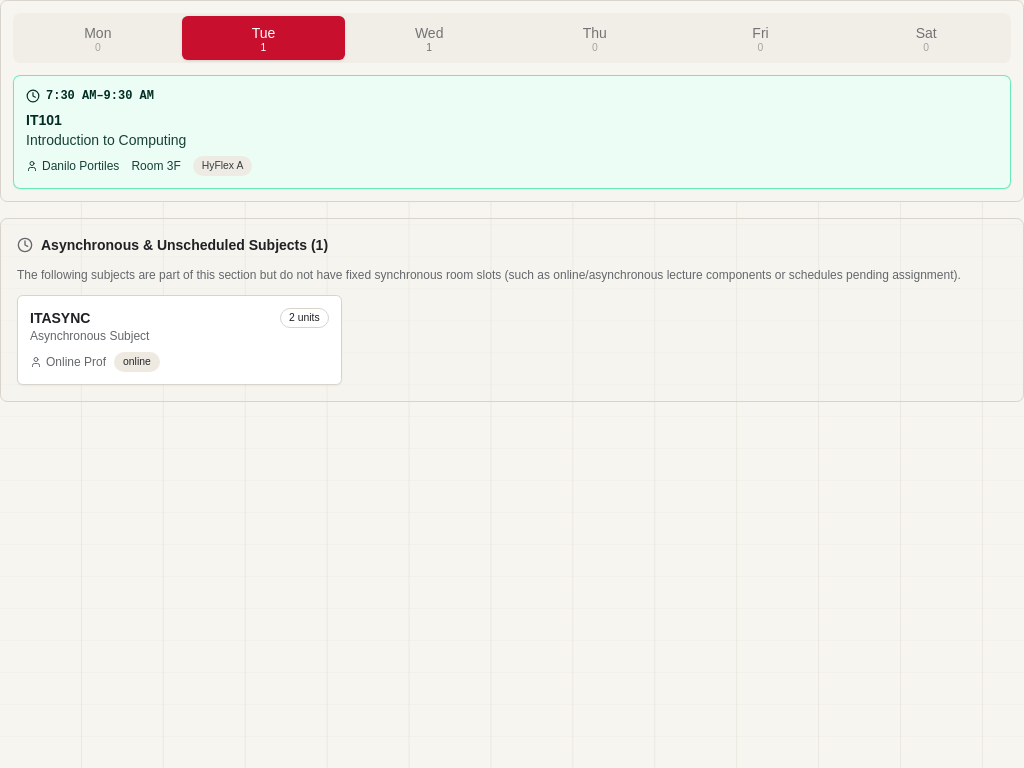
Test: SectionScheduleCalendar on a phone › switches day when a day tab is chosen
Click the tab "Wed 1" at x=429, y=38, box x1=347 y1=16 x2=511 y2=60
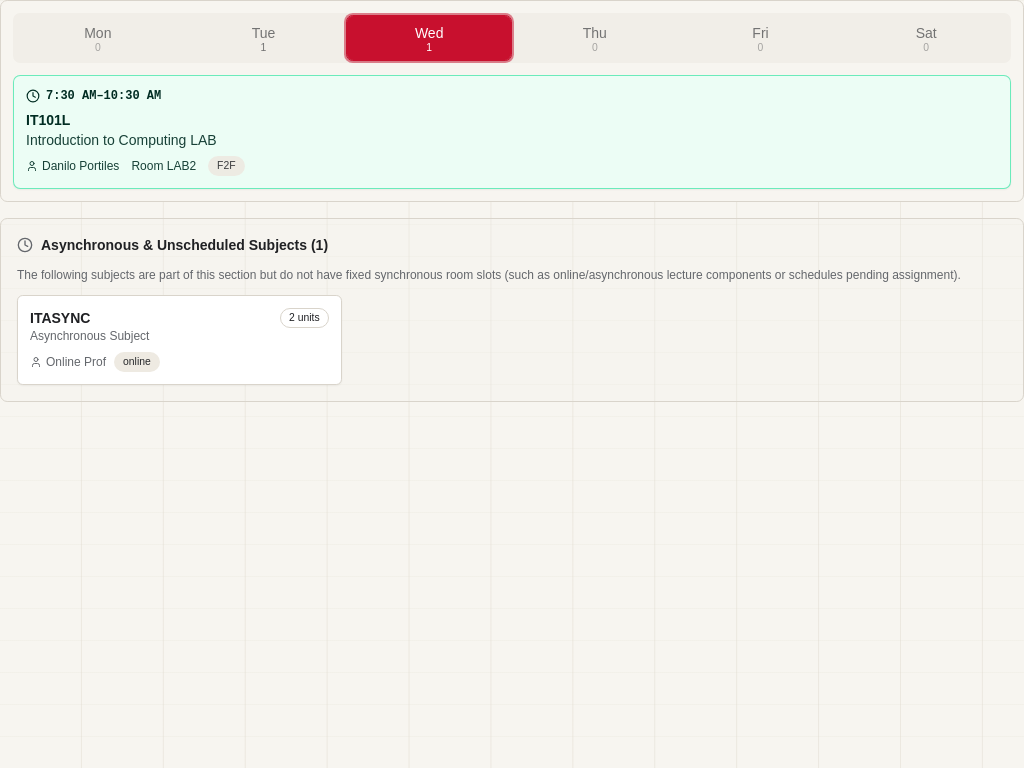
Expected: the text "IT101L" is shown, x1=26 y1=112 x2=70 y2=128
Expected: the text "7:30 AM–10:30 AM" is shown, x1=26 y1=88 x2=161 y2=104
